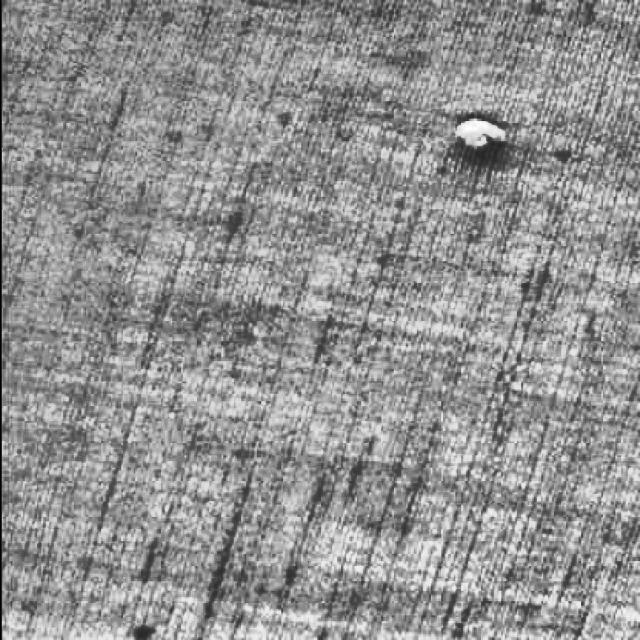hole: (450, 108, 512, 168)
